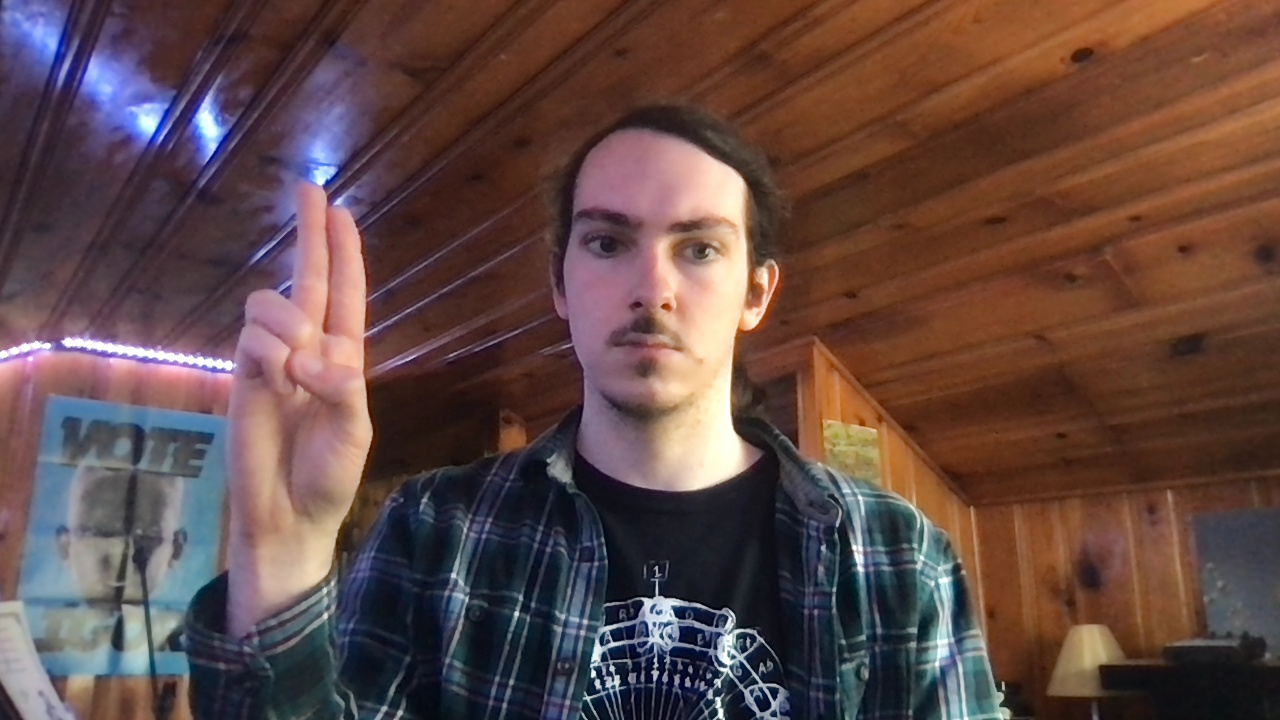u: (227, 180, 375, 527)
